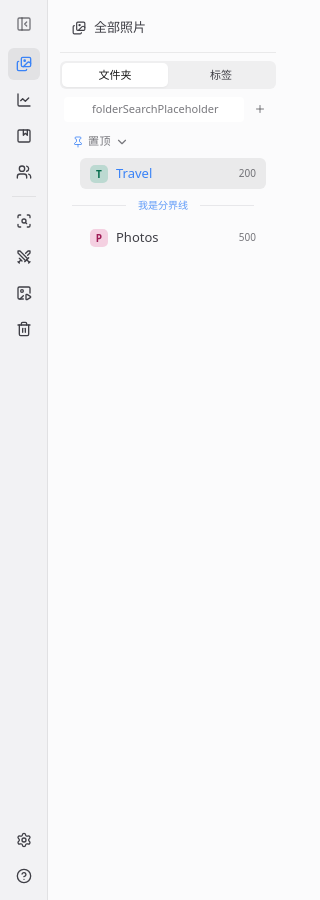
Sidebar › collapses and expands the pinned section inside the folder tree
This screenshot has width=320, height=900.
Expected: the list item with aria-label "C:/Travel" is shown, [80,158,266,189]
Expected: the element showing "我是分界线" is shown, [138,198,188,212]
Click the button "置顶" at [163, 142], box [64,129,262,154]
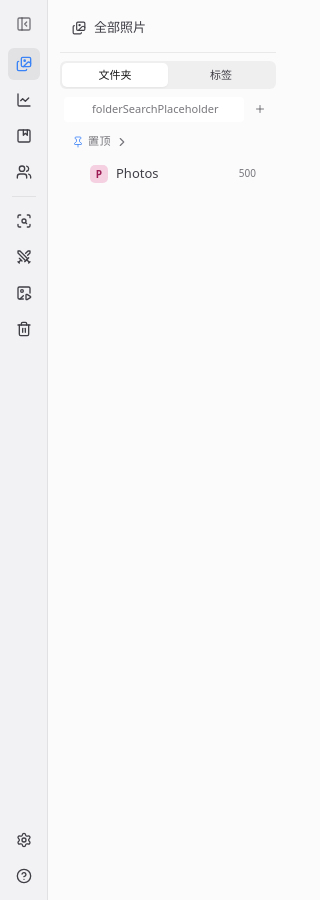
Result: the button "置顶" is collapsed
Result: the list item "C:/Travel" is gone
Click the button "置顶" at [163, 142], box [64,129,262,154]
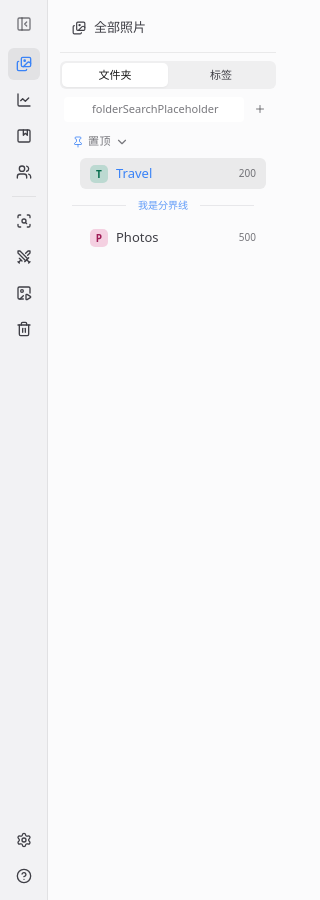
Result: the list item with aria-label "C:/Travel" is shown at [80,158,266,189]
Result: the element showing "我是分界线" is shown at [138,198,188,212]
